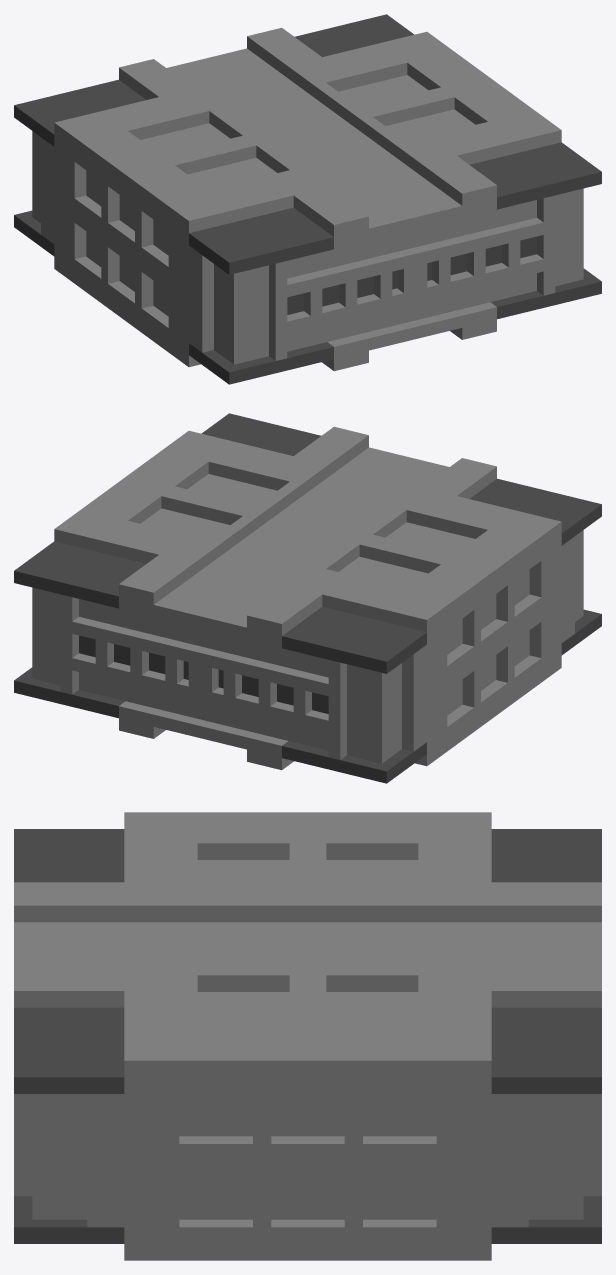
File: alien_saucer1a.obj
3 views of the same model, one above another, from view 1: azimuth 30°, elevation 25°; view 2: azimuth 150°, elevation 25°; view 3: azimuth 270°, elevation 25° (orthographic). The views are drawn at different scales.
Bounding box in the file's own units: 32 × 12 × 32.
